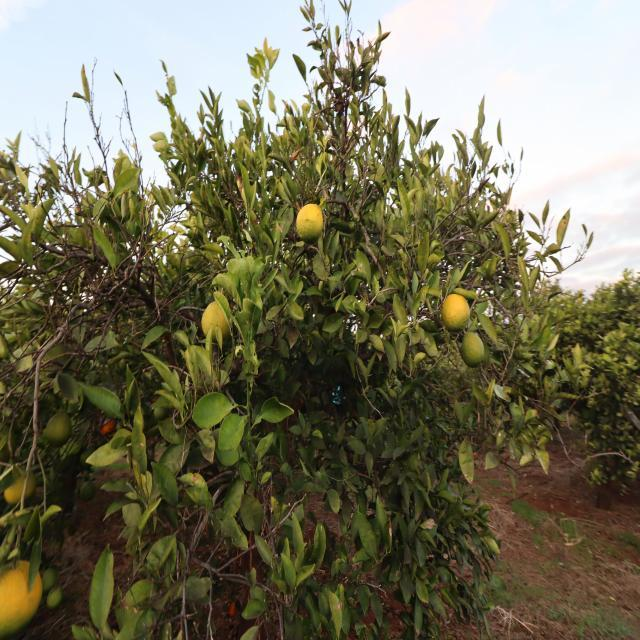Jeruk Belum Matang: (0, 557, 45, 636), (200, 300, 230, 342), (296, 203, 324, 246), (3, 466, 34, 504), (460, 332, 486, 368), (444, 295, 469, 332), (47, 413, 72, 448)
